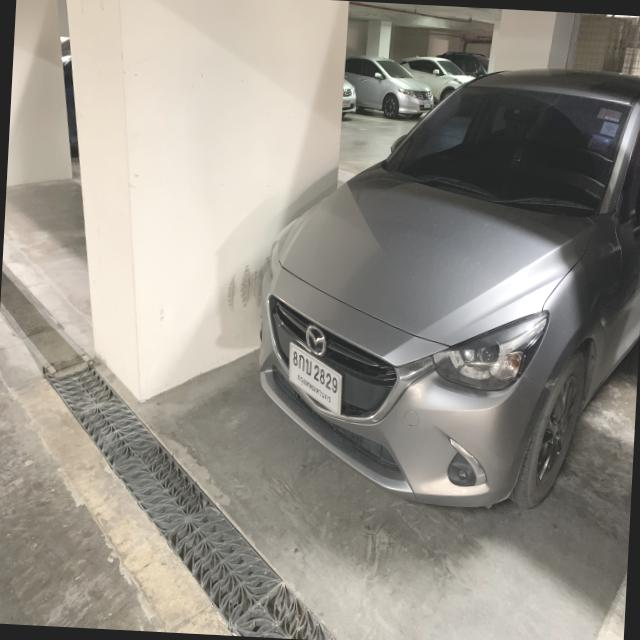license_plate: (283, 339, 346, 420)
